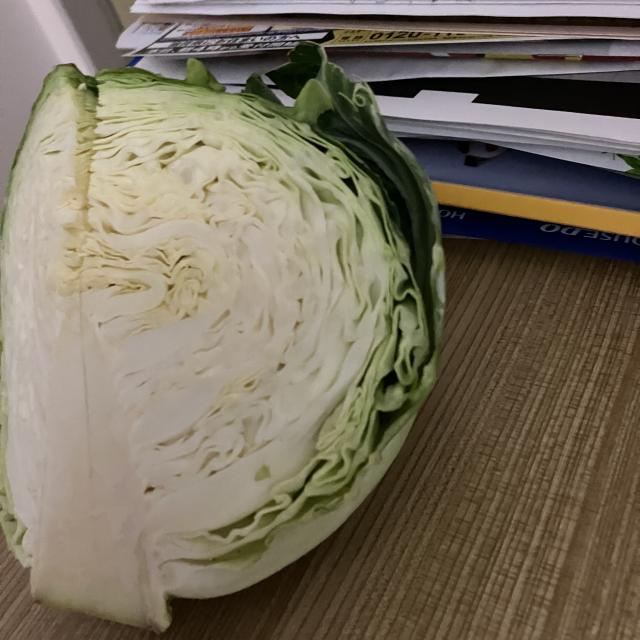haft-cabbage: (0, 38, 450, 640)
